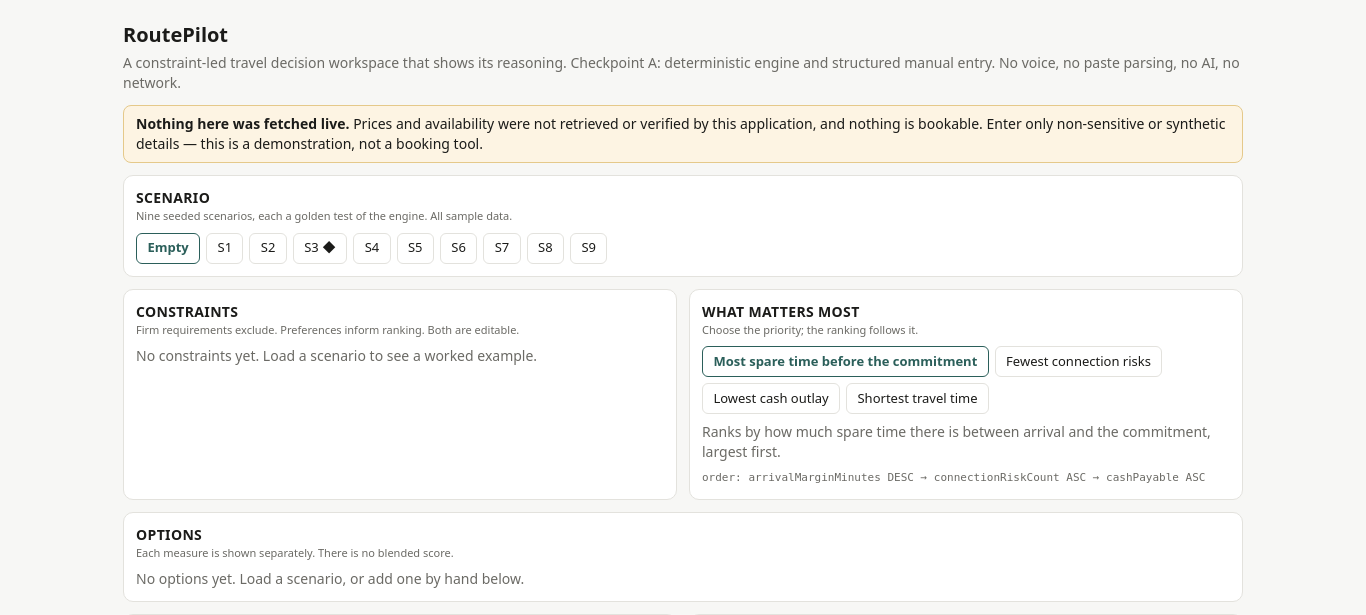
Scenario: a proposal conflicting with a human-authored constraint › "Keep mine" preserves the existing constraint
This screenshot has width=1366, height=615.
Click the button "S1". click: (225, 248)
box: 206,232 -> 244,264
(page scrolled)
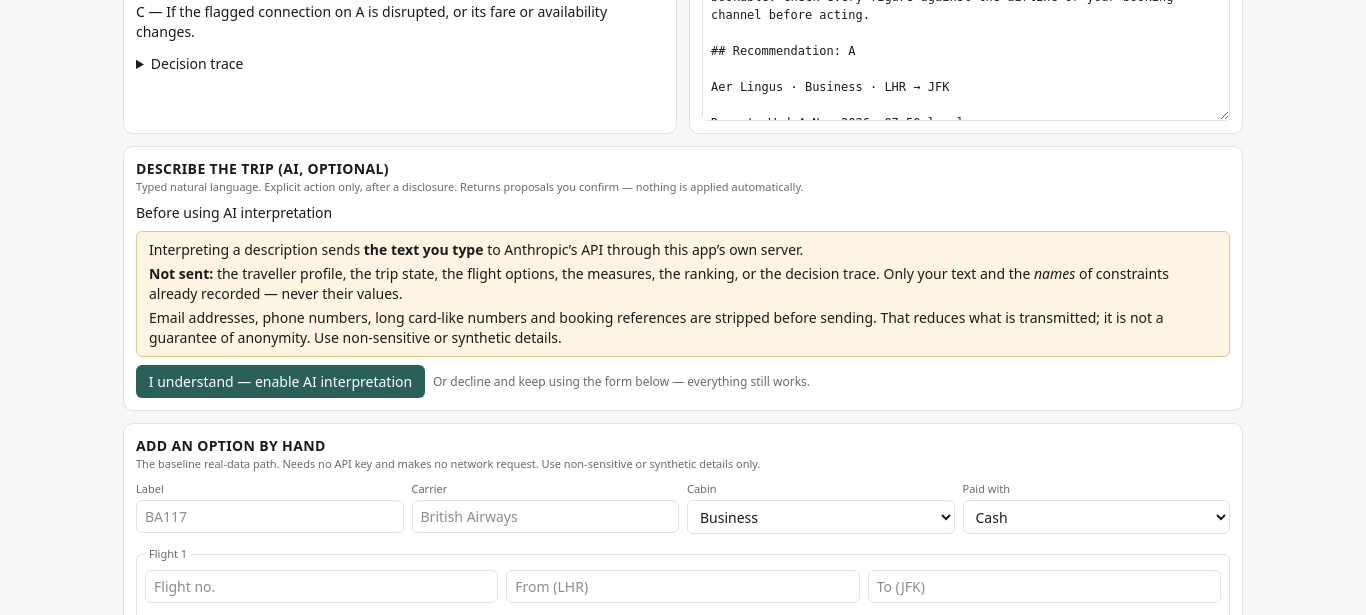
Click the button "I understand — enable AI interpretation". click: (280, 382)
box: 136,365 -> 425,398
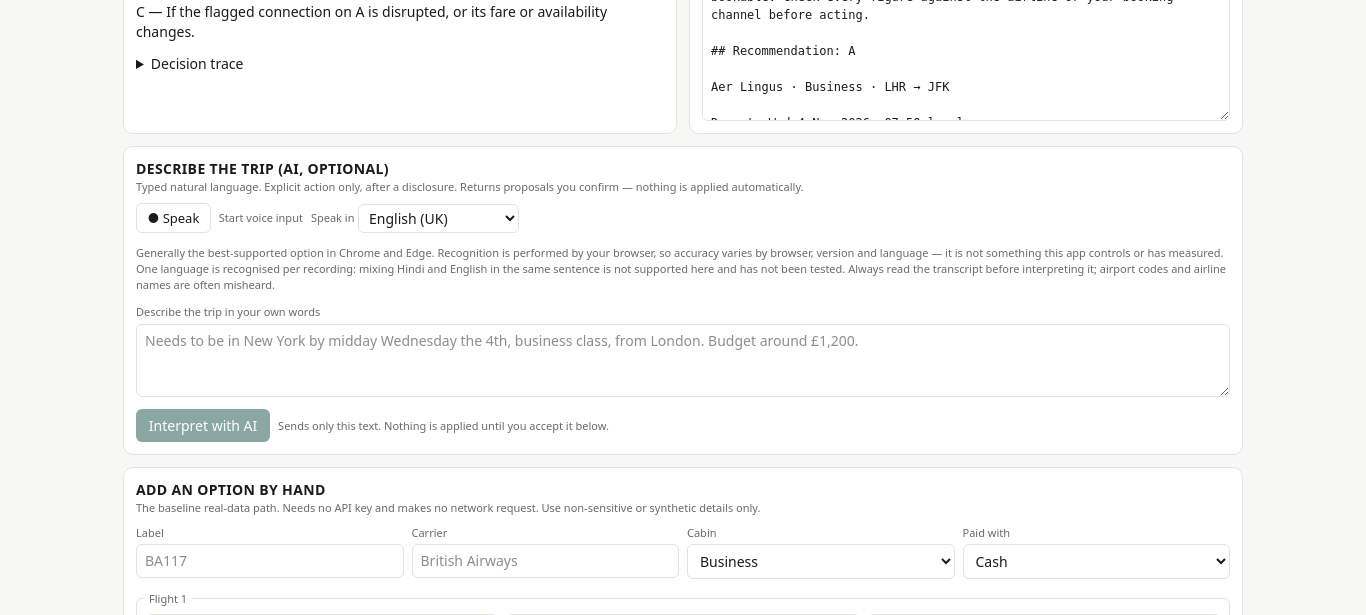
Type "Should land by early evening on the 4th." into the text box labelled "Describe the trip in your own words". click: (683, 361)
box: 136,324 -> 1230,397
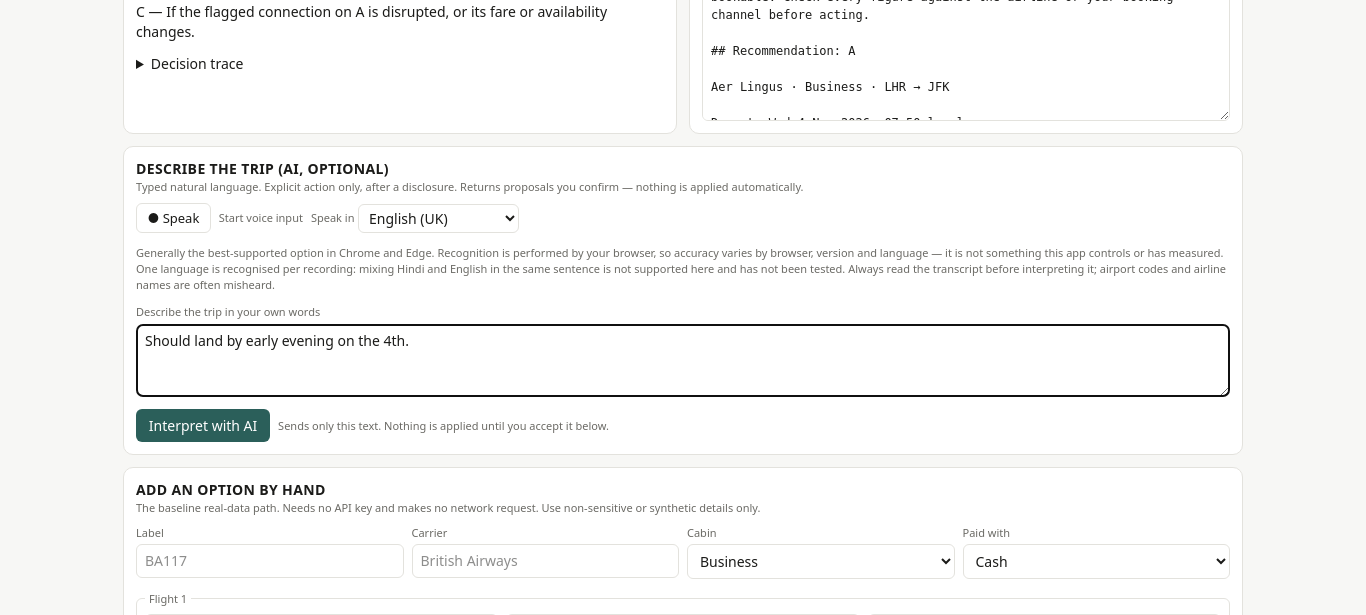
Click the button "Interpret with AI". click: (203, 426)
box: 136,409 -> 270,442
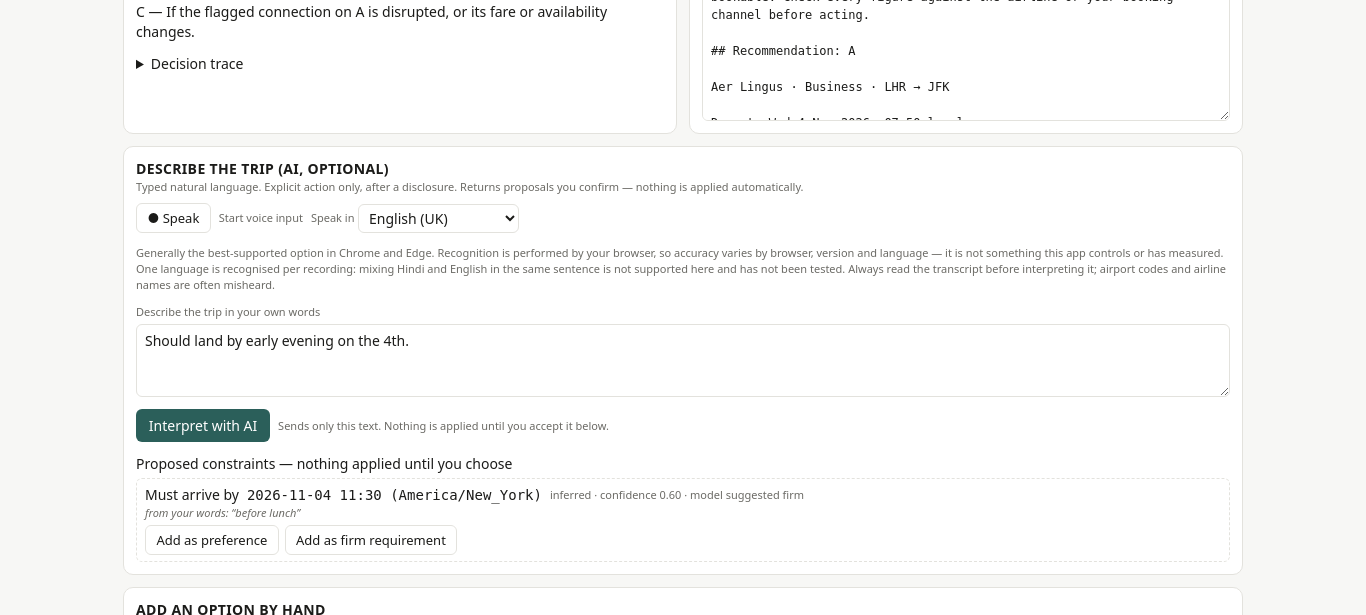
Expected: the heading "Proposed constraints — nothing applied until you choose" is shown, 136,454 -> 512,473
Click the button "Add as firm requirement". click: (371, 540)
box: 285,525 -> 457,555
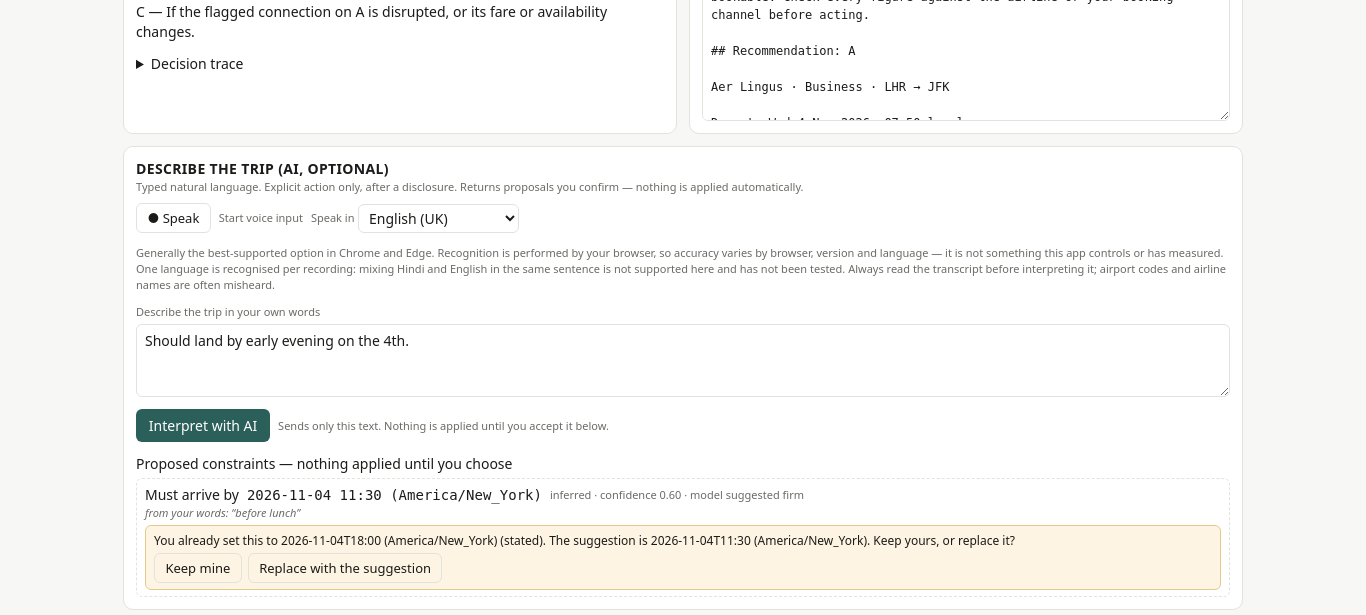
Expected: the text "You already set this to" is shown, 154,532 -> 1015,549
Click the button "Keep mine". click: (198, 568)
box: 154,553 -> 242,583
(page scrolled)
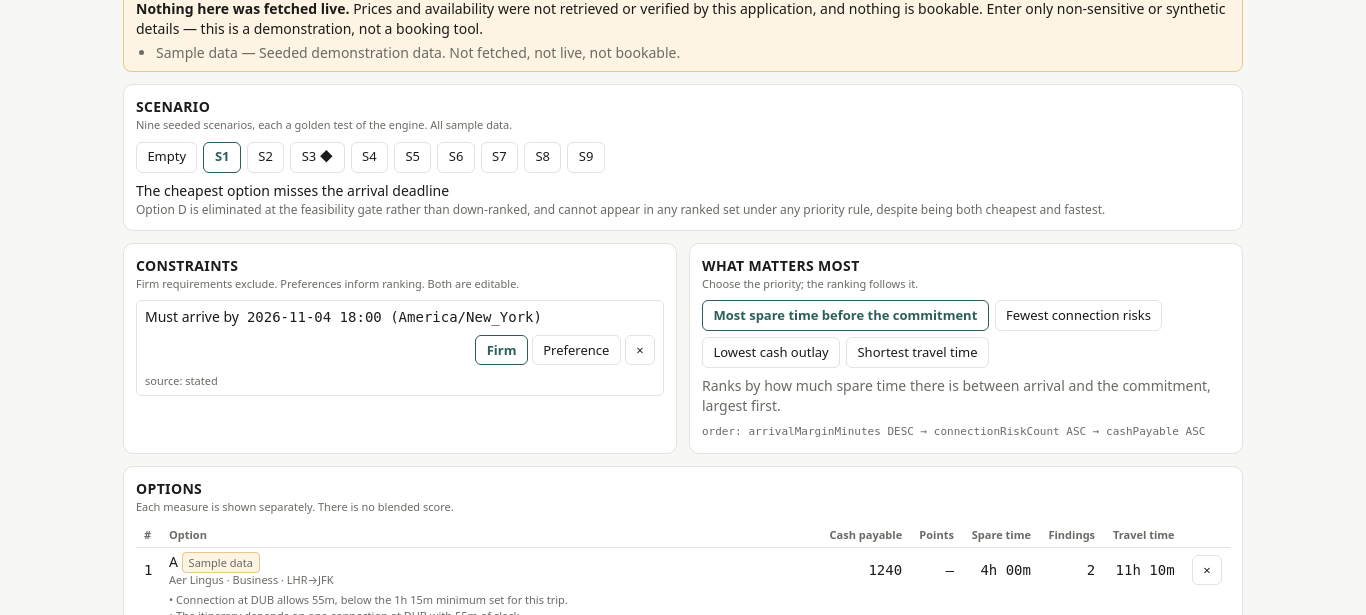
Expected: the text "2026-11-04 18:00 (America/New_York)" is shown, 247,307 -> 542,327
Expected: the text "source: stated" is shown, 145,373 -> 218,388
Expected: the text "You already set this to" is gone
